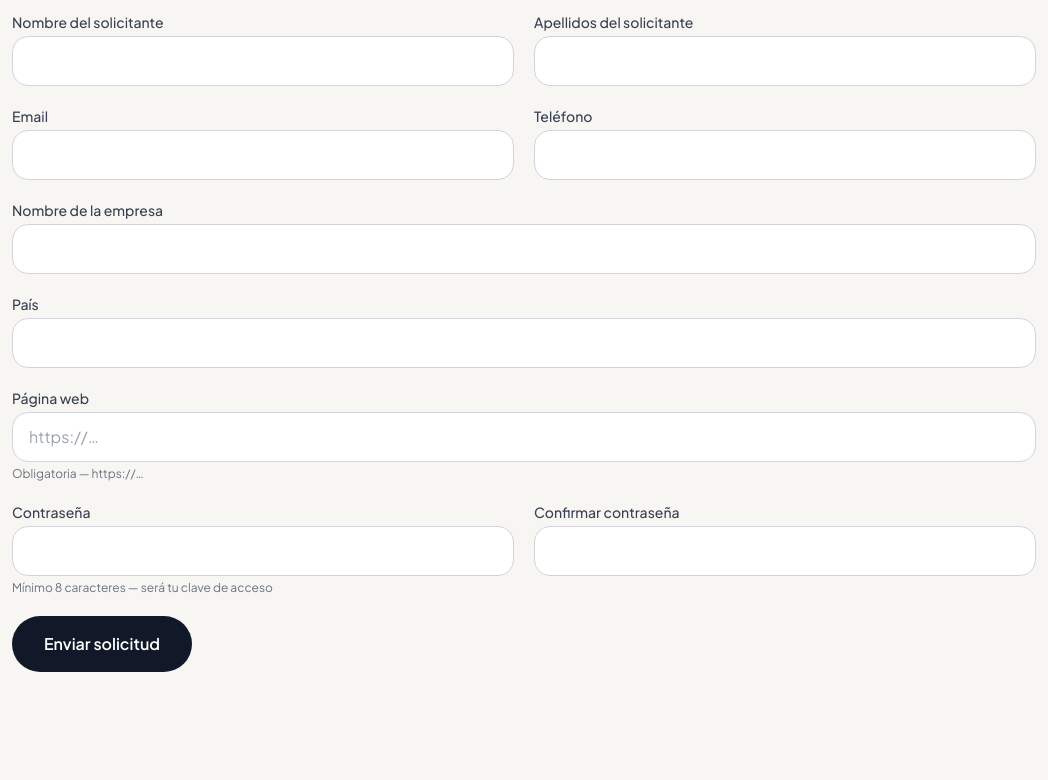
Test case: ForeignRegistrationForm (spec: website required, no document) › shows the missing-website validation error from the server
Click the button "Enviar solicitud" at [102, 644], box [12,616,192,672]
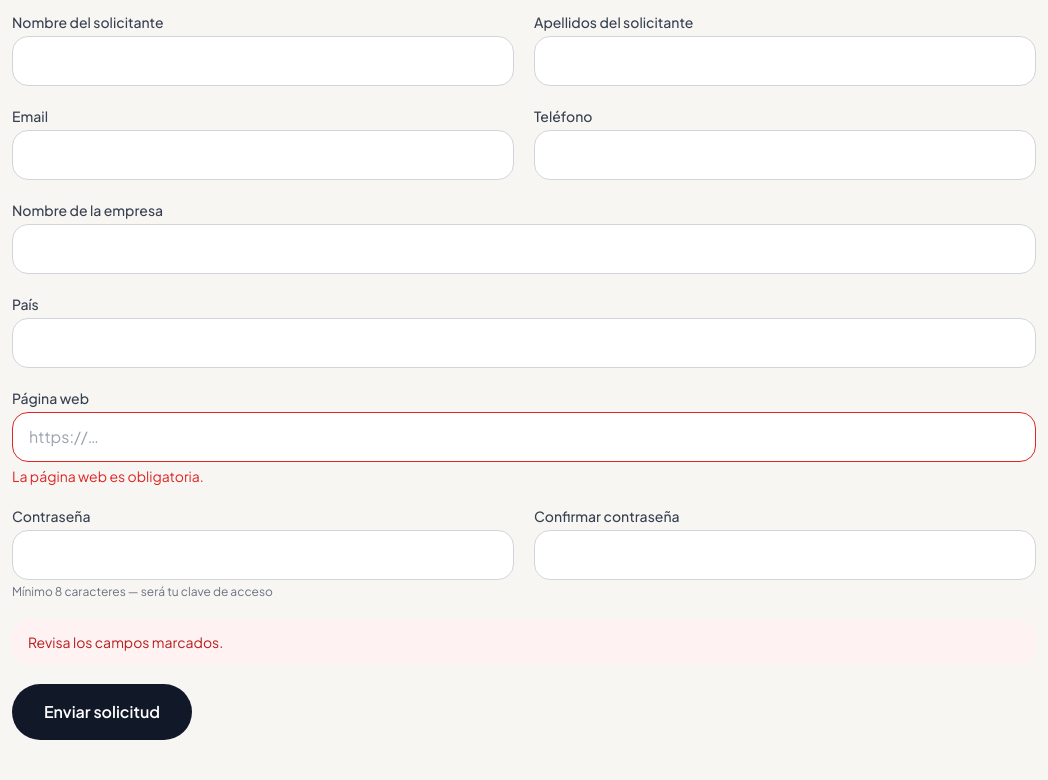
Expected: the text "La página web es obligatoria." is shown, [12,467,204,485]
Expected: the text "Revisa los campos marcados." is shown, [12,620,1036,664]
